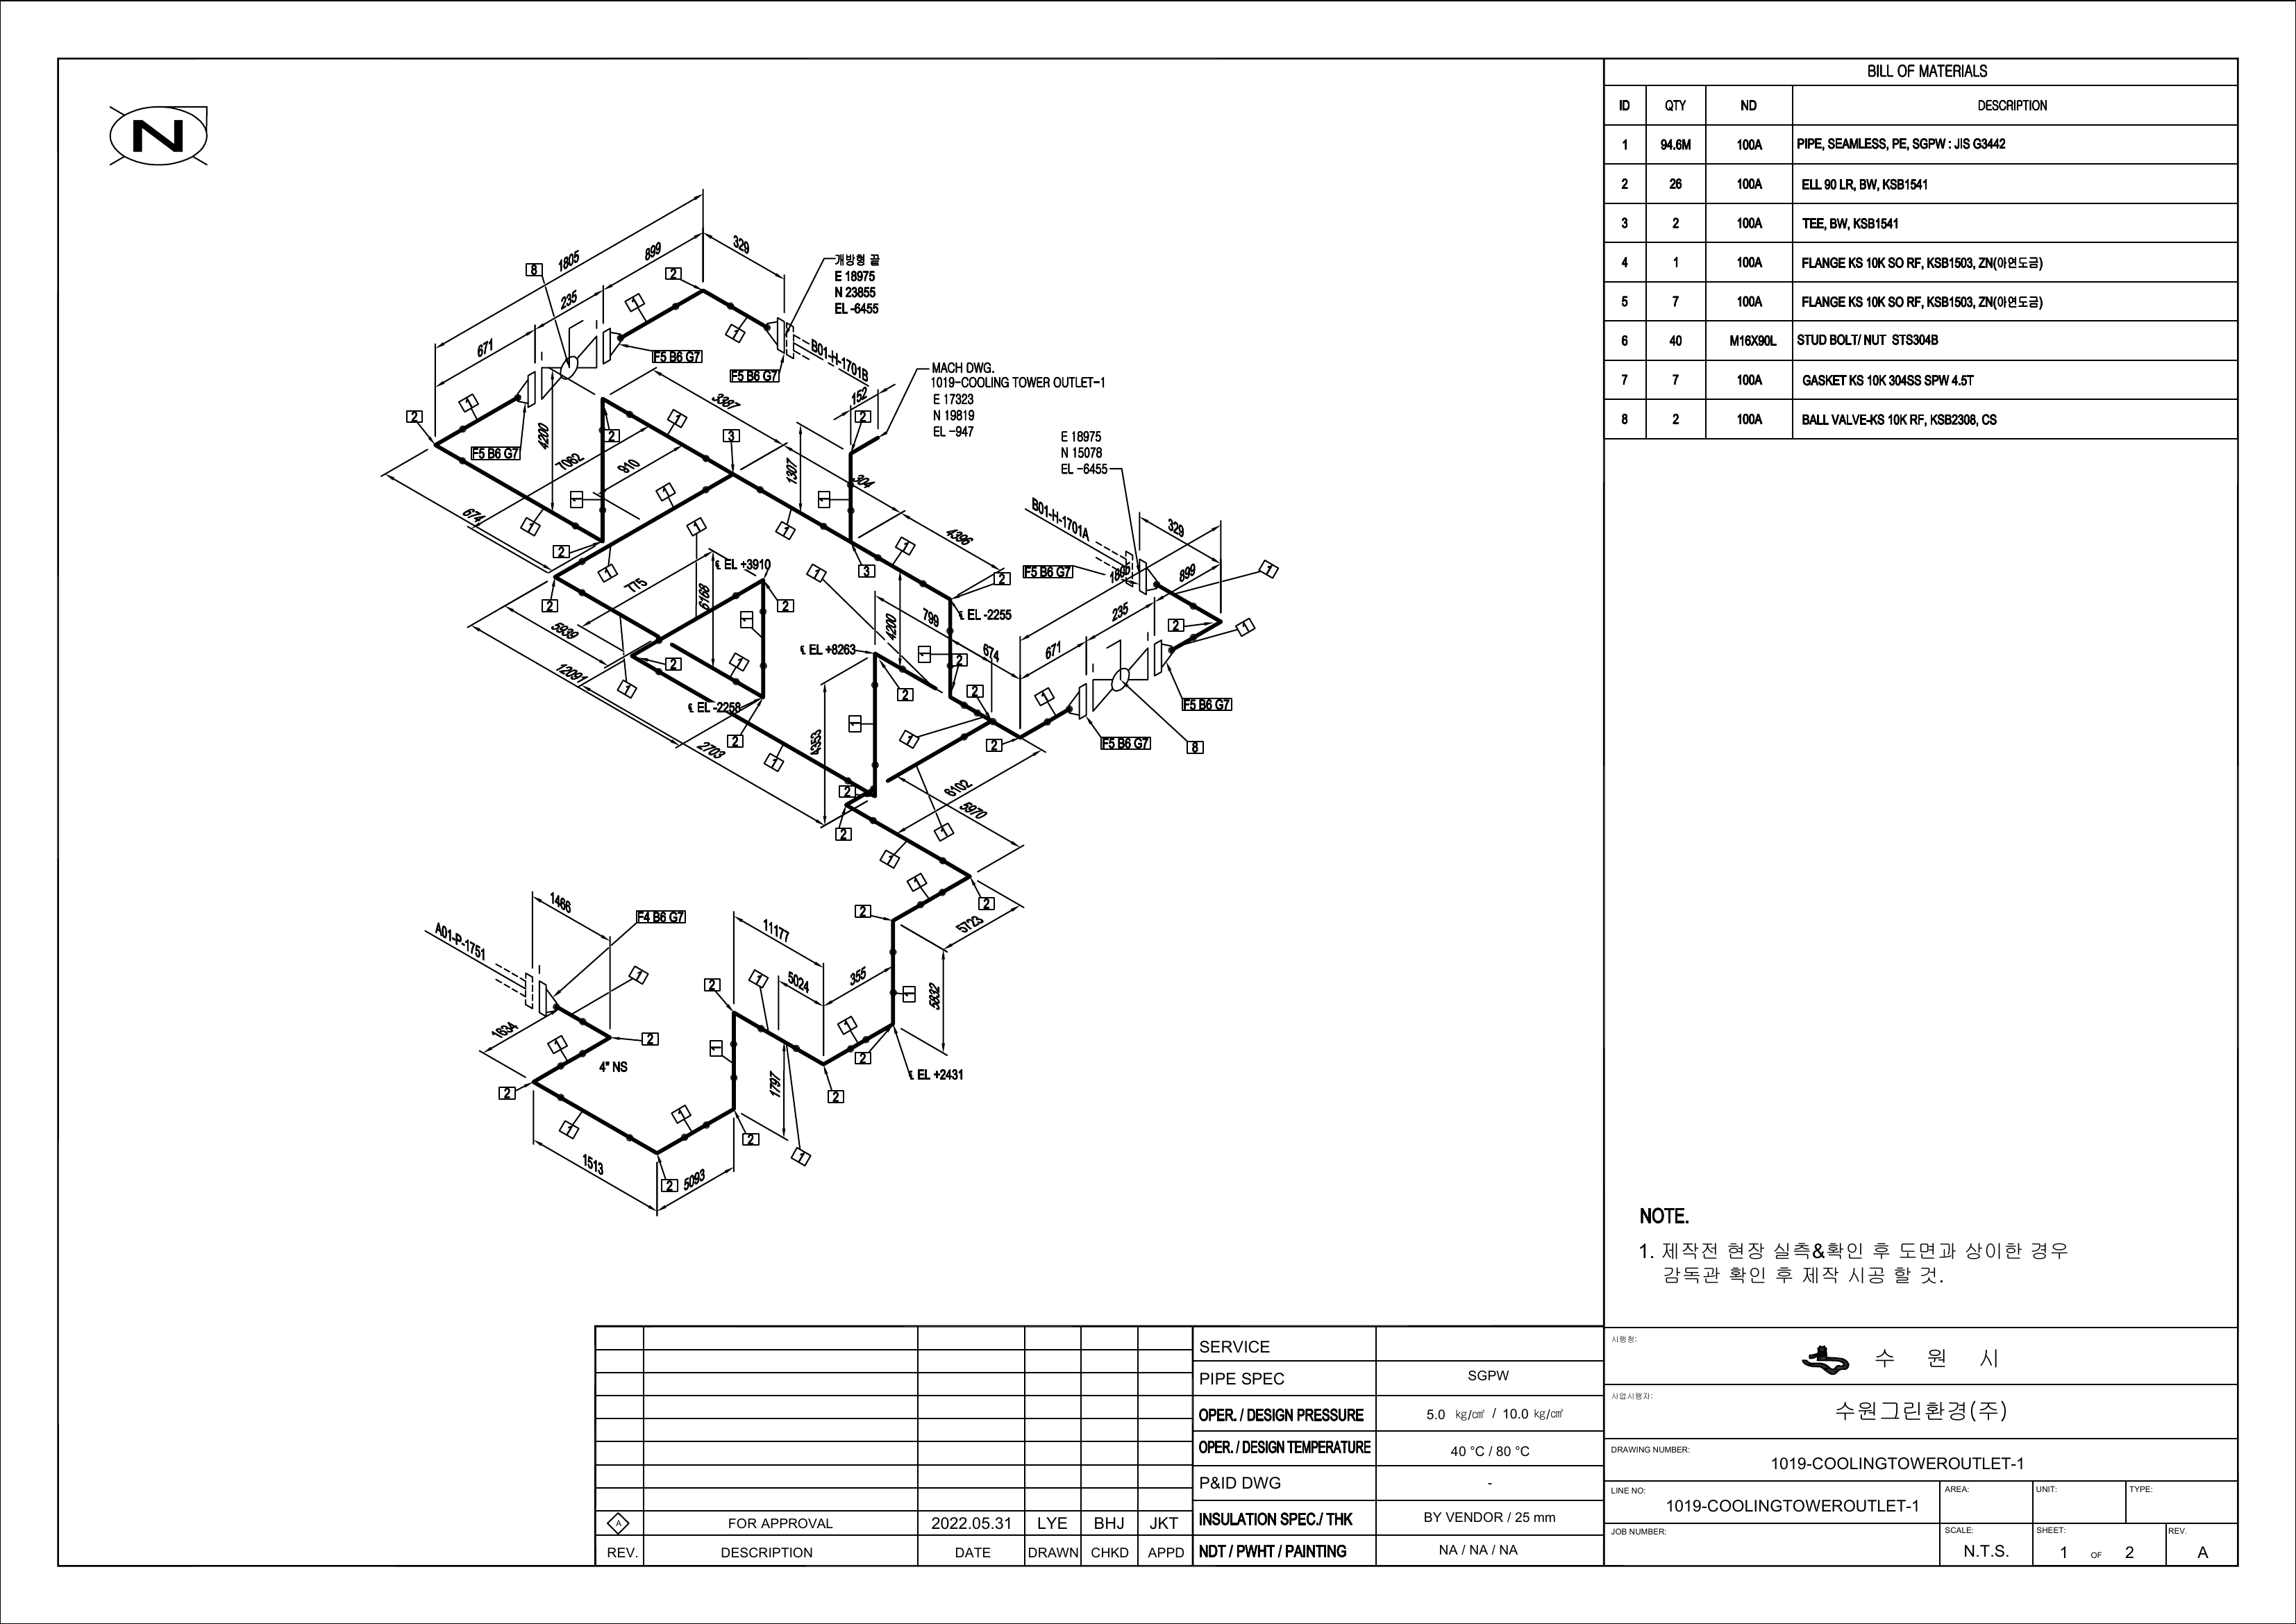table: (1597, 49, 2250, 446)
